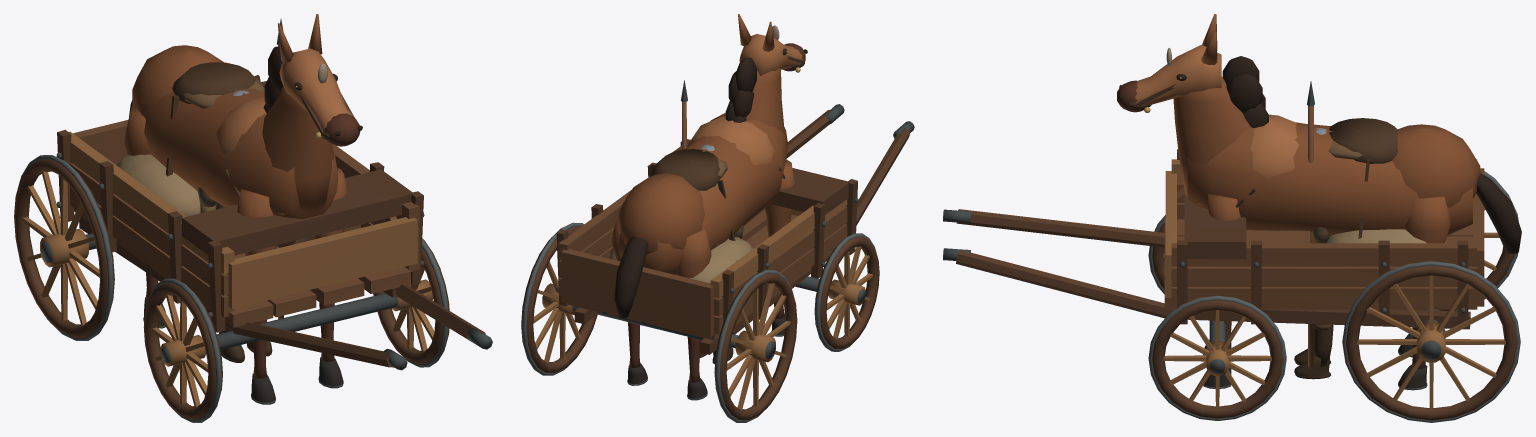
The model's file is moradores-e-carroca.glb.
3 renders of one model, left to right at view 1: azimuth 30°, elevation 25°; view 2: azimuth 150°, elevation 25°; view 3: azimuth 270°, elevation 25°, orthographic. The views are drawn at different scales.
Parts seen in each view (by area): view 1: wagon_Carroceria, carga e ferragens, horse__Body_Peito e garupa, wagon__WheelRL_Roda raiada, wagon__WheelFL_Roda raiada, horse__Neck_Pescoco e crina, horse__Head_Cabeca do cavalo, wagon__WheelFR_Roda raiada, horse__LegFL_Perna superior, horse__LegHL_Perna superior, horse__HoofFR_Casco, horse__HoofFL_Casco, horse__JointFL_Canela; view 2: wagon_Carroceria, carga e ferragens, horse__Body_Peito e garupa, wagon__WheelRL_Roda raiada, wagon__WheelFL_Roda raiada, wagon__WheelRR_Roda raiada, horse__Neck_Pescoco e crina, horse__Head_Cabeca do cavalo, horse__Tail_Cauda, horse__LegHL_Perna superior, horse__LegFL_Perna superior, horse__JointHL_Canela, horse__JointHR_Canela; view 3: wagon_Carroceria, carga e ferragens, horse__Body_Peito e garupa, wagon__WheelRR_Roda raiada, wagon__WheelFR_Roda raiada, horse__Neck_Pescoco e crina, horse__Head_Cabeca do cavalo, horse__Tail_Cauda, horse__LegHR_Perna superior, wagon__WheelRL_Roda raiada, guard__ShoulderR_Lanca, wagon__WheelFL_Roda raiada, horse__LegFR_Perna superior (+2 smaller).
Part boxes in pixels (left/top/right/bottom): wagon_Carroceria, carga e ferragens: left=56, top=81, right=492, bottom=370; horse__Body_Peito e garupa: left=132, top=45, right=338, bottom=219; wagon__WheelRL_Roda raiada: left=14, top=155, right=114, bottom=340; wagon__WheelFL_Roda raiada: left=143, top=278, right=222, bottom=422; horse__Neck_Pescoco e crina: left=262, top=46, right=334, bottom=215; horse__Head_Cabeca do cavalo: left=278, top=14, right=362, bottom=146; wagon__WheelFR_Roda raiada: left=373, top=238, right=449, bottom=367; horse__LegFL_Perna superior: left=237, top=189, right=276, bottom=256; horse__LegHL_Perna superior: left=124, top=105, right=150, bottom=155; horse__HoofFR_Casco: left=318, top=357, right=343, bottom=388; horse__HoofFL_Casco: left=251, top=373, right=275, bottom=404; horse__JointFL_Canela: left=253, top=319, right=266, bottom=378; wagon_Carroceria, carga e ferragens: left=556, top=104, right=914, bottom=354; horse__Body_Peito e garupa: left=618, top=113, right=787, bottom=274; wagon__WheelRL_Roda raiada: left=714, top=270, right=797, bottom=422; wagon__WheelFL_Roda raiada: left=814, top=233, right=879, bottom=351; wagon__WheelRR_Roda raiada: left=521, top=222, right=597, bottom=375; horse__Neck_Pescoco e crina: left=725, top=57, right=784, bottom=133; horse__Head_Cabeca do cavalo: left=738, top=14, right=807, bottom=75; horse__Tail_Cauda: left=614, top=236, right=648, bottom=318; horse__LegHL_Perna superior: left=677, top=228, right=711, bottom=278; horse__LegFL_Perna superior: left=764, top=159, right=794, bottom=237; horse__JointHL_Canela: left=687, top=336, right=699, bottom=382; horse__JointHR_Canela: left=628, top=322, right=640, bottom=367; wagon_Carroceria, carga e ferragens: left=943, top=149, right=1484, bottom=342; horse__Body_Peito e garupa: left=1187, top=114, right=1480, bottom=238; wagon__WheelRR_Roda raiada: left=1342, top=261, right=1520, bottom=422; wagon__WheelFR_Roda raiada: left=1148, top=295, right=1286, bottom=420; horse__Neck_Pescoco e crina: left=1173, top=56, right=1268, bottom=206; horse__Head_Cabeca do cavalo: left=1117, top=14, right=1221, bottom=112; horse__Tail_Cauda: left=1476, top=173, right=1521, bottom=253; horse__LegHR_Perna superior: left=1404, top=196, right=1451, bottom=243; wagon__WheelRL_Roda raiada: left=1439, top=171, right=1518, bottom=311; guard__ShoulderR_Lanca: left=1307, top=81, right=1314, bottom=367; wagon__WheelFL_Roda raiada: left=1148, top=215, right=1165, bottom=294; horse__LegFR_Perna superior: left=1207, top=193, right=1240, bottom=220.
Size of the model in its own units: 2.04 by 2.66 by 4.03.
